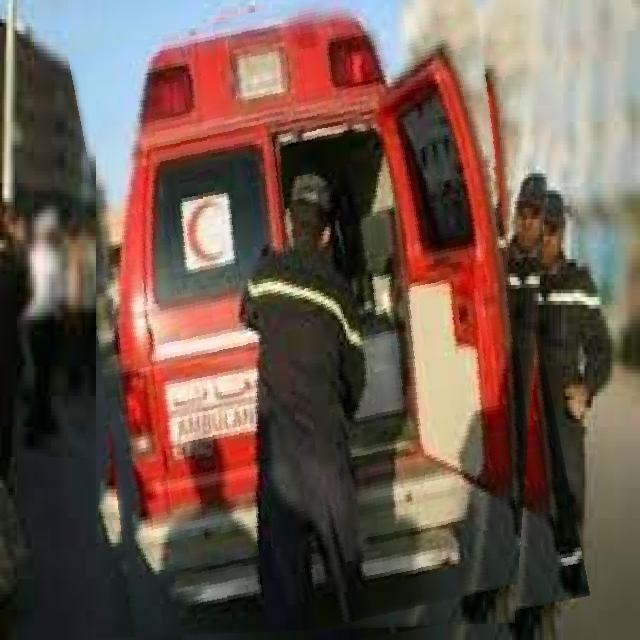ambulance: (96, 0, 562, 640)
